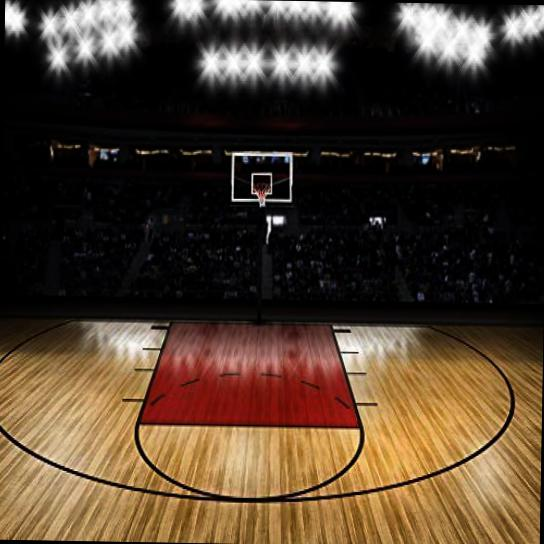basketball-hoop: (252, 180, 272, 207)
